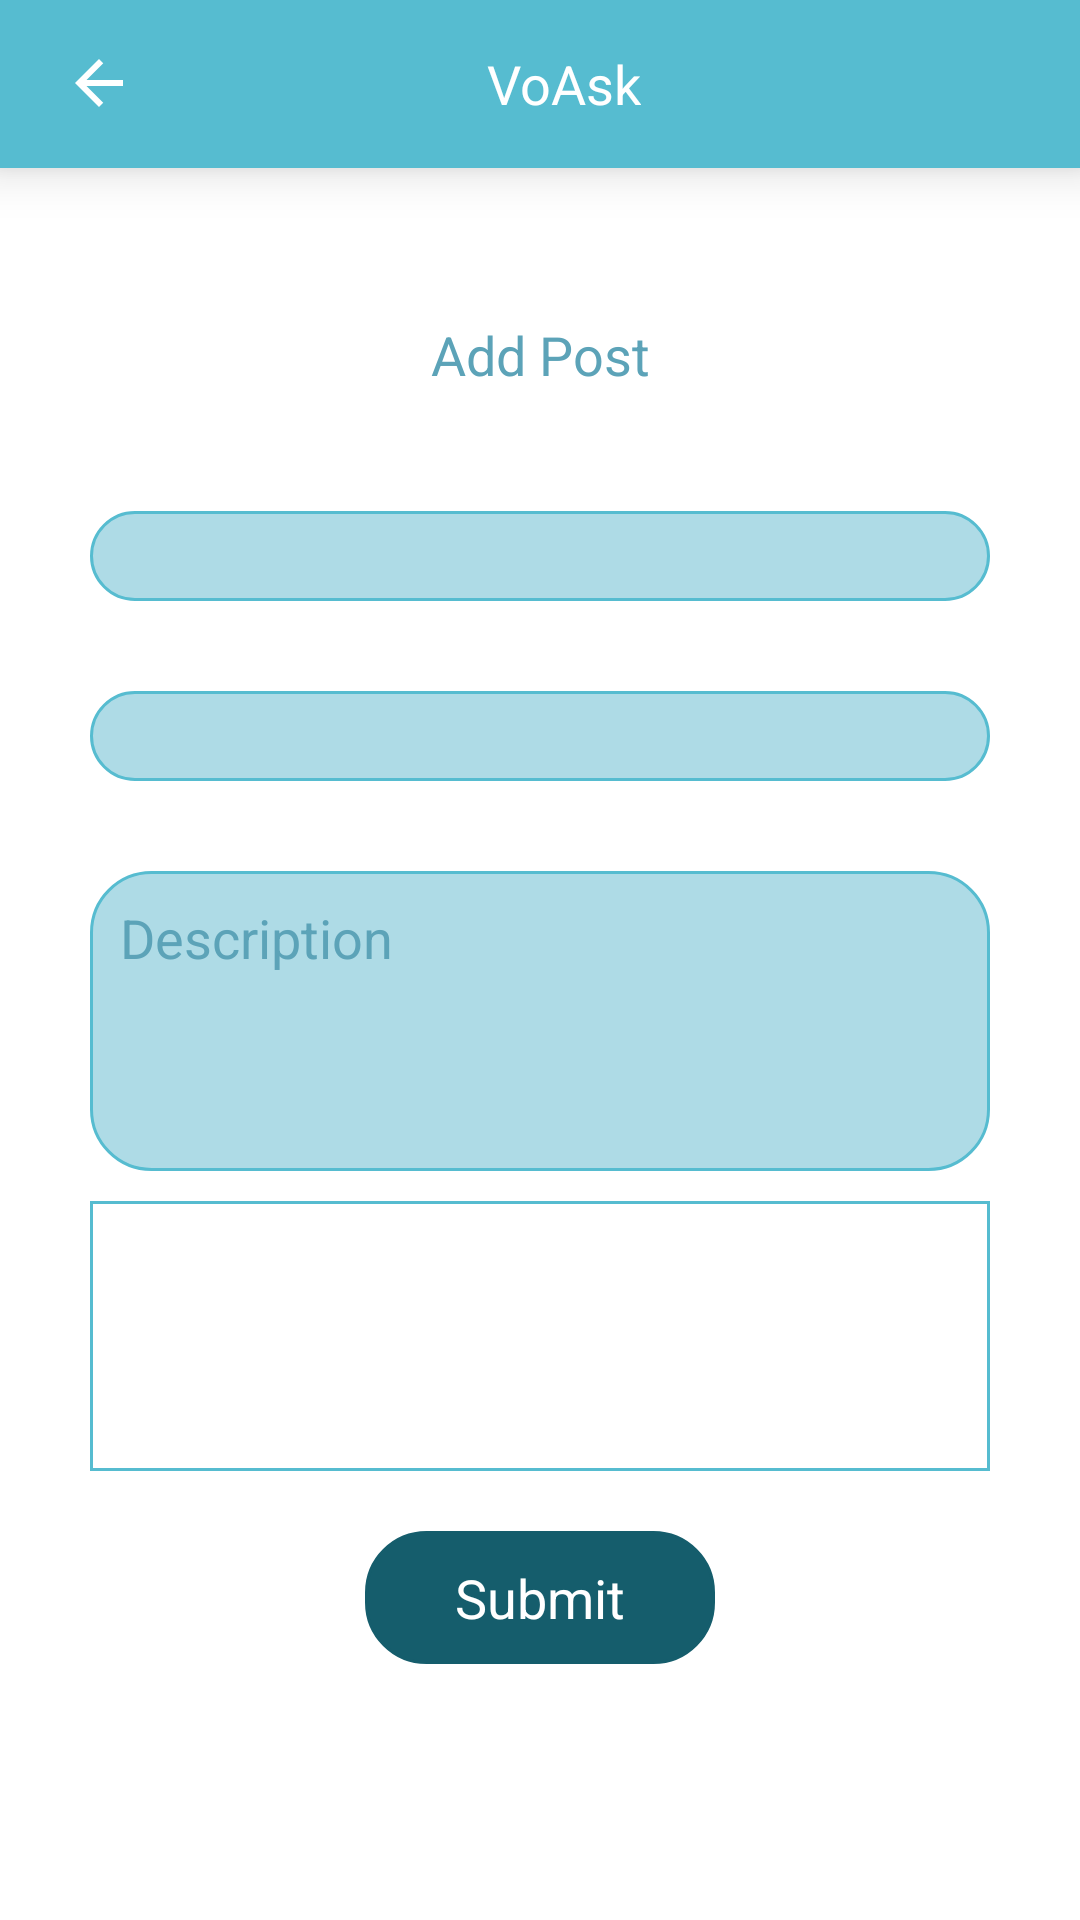

Icon click points for this 1080×1920 phone screenshot, format point (x, y):
back: point (99, 83)
